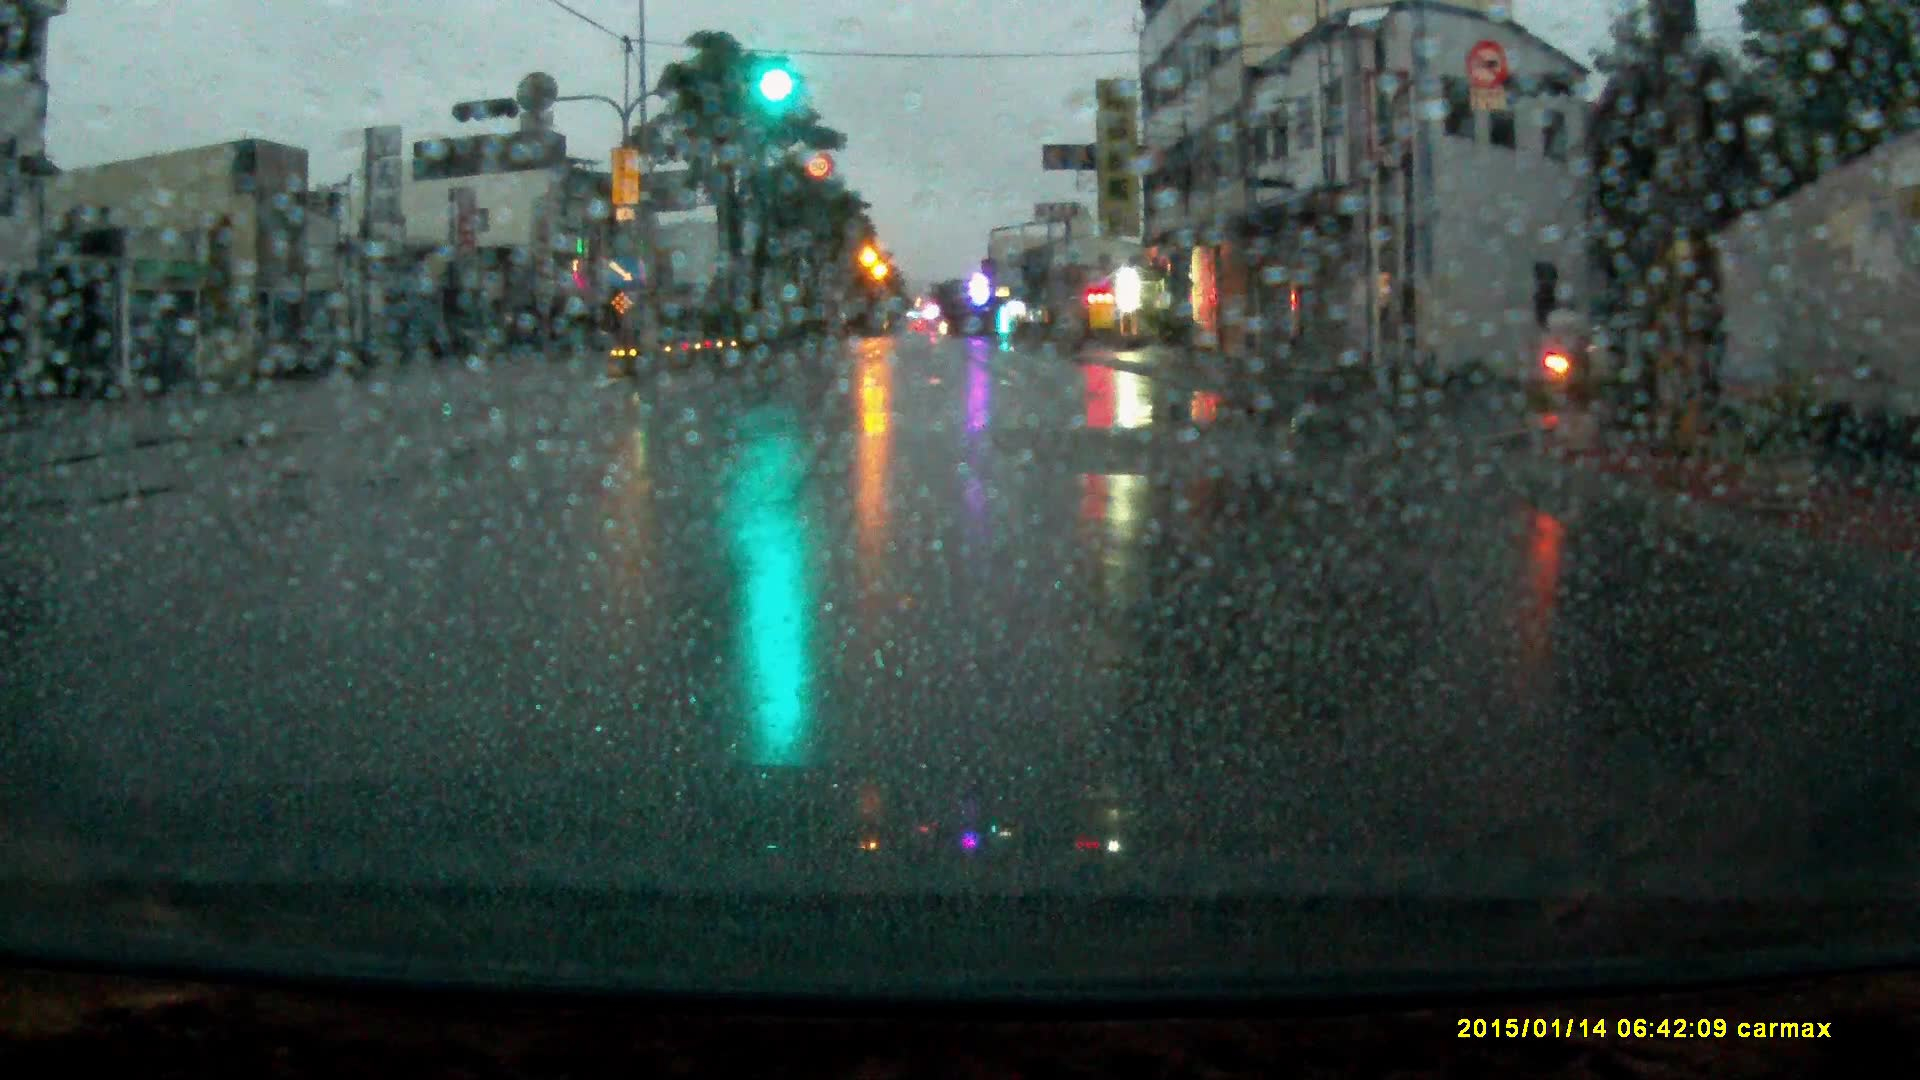rider: (1532, 288, 1604, 405)
